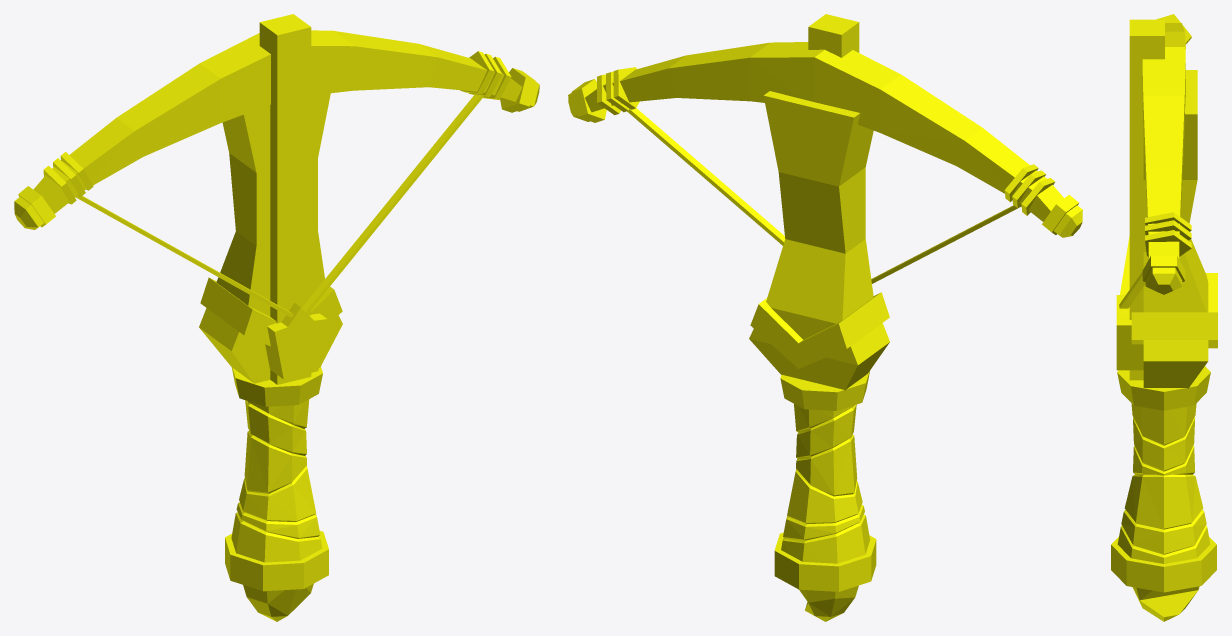
File: _crossbow_19.glb
3 views of the same model, side by side, from view 1: azimuth 30°, elevation 25°; view 2: azimuth 150°, elevation 25°; view 3: azimuth 270°, elevation 25° (orthographic). The views are drawn at different scales.
Parts seen in each view (by area): view 1: crossbow_19; view 2: crossbow_19; view 3: crossbow_19.
Part boxes in pixels (left/top/right/bottom): crossbow_19: left=14, top=14, right=539, bottom=621; crossbow_19: left=568, top=14, right=1082, bottom=621; crossbow_19: left=1111, top=14, right=1217, bottom=621.
Size of the model in its own units: 0.6134 by 0.6814 by 0.1112.
Materials: 1 (1 with a texture image).
